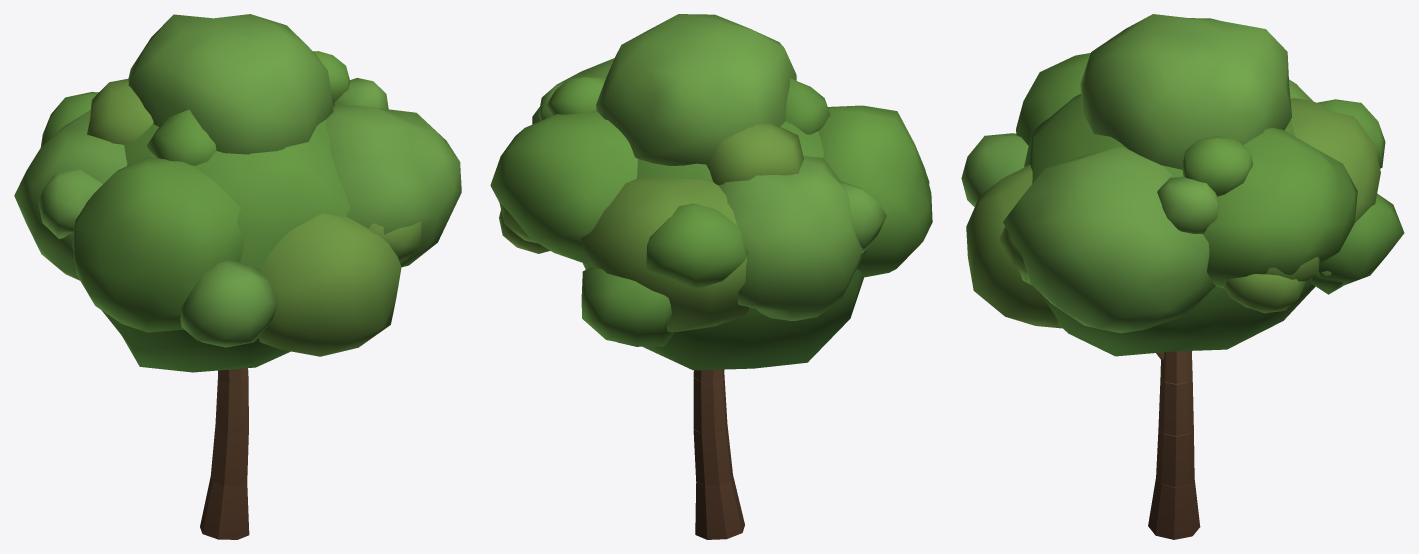
The model's file is oak-tall-1.glb.
The picture shows the model from 3 angles, left to right: view 1: azimuth 30°, elevation 25°; view 2: azimuth 150°, elevation 25°; view 3: azimuth 270°, elevation 25°; orthographic projection.
Visible parts, largest first — view 1: leaf, bark; view 2: leaf, bark; view 3: leaf, bark.
Part boxes in pixels (left/top/right/bottom): leaf: left=14, top=14, right=461, bottom=372; bark: left=200, top=368, right=249, bottom=539; leaf: left=490, top=14, right=932, bottom=370; bark: left=693, top=369, right=744, bottom=539; leaf: left=961, top=14, right=1404, bottom=356; bark: left=1148, top=351, right=1200, bottom=539.
Bounding box in the file's own units: 5.03 × 6.44 × 5.09.
